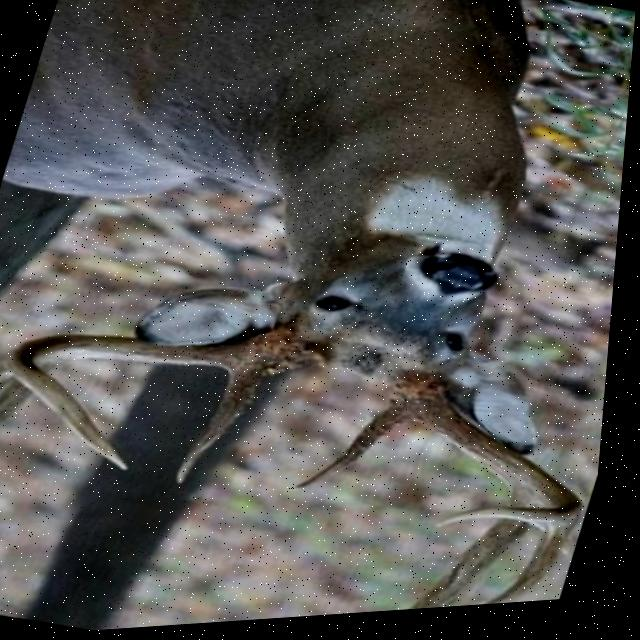L-F: (393, 380, 592, 536)
L-G1: (301, 408, 421, 497)
L-G3: (497, 531, 586, 612)
R-F: (13, 332, 335, 475)
R-G1: (182, 372, 273, 490)
